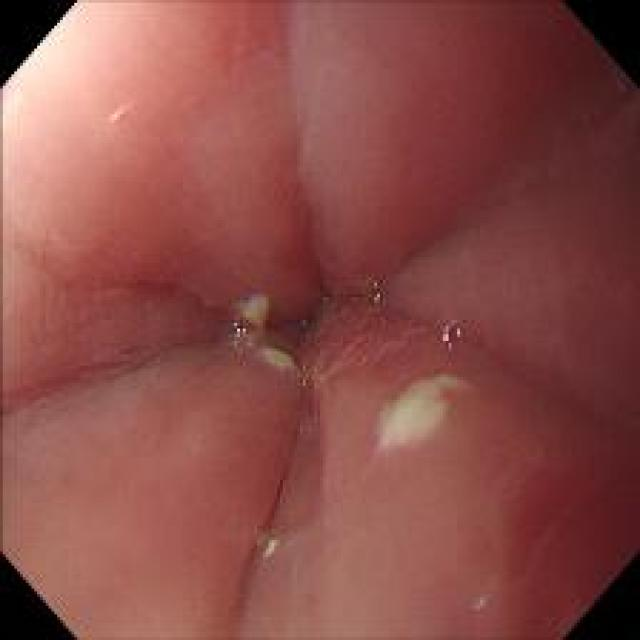bubbles: (364, 275, 384, 308)
color misalignment: (432, 311, 470, 358), (224, 318, 251, 346)
